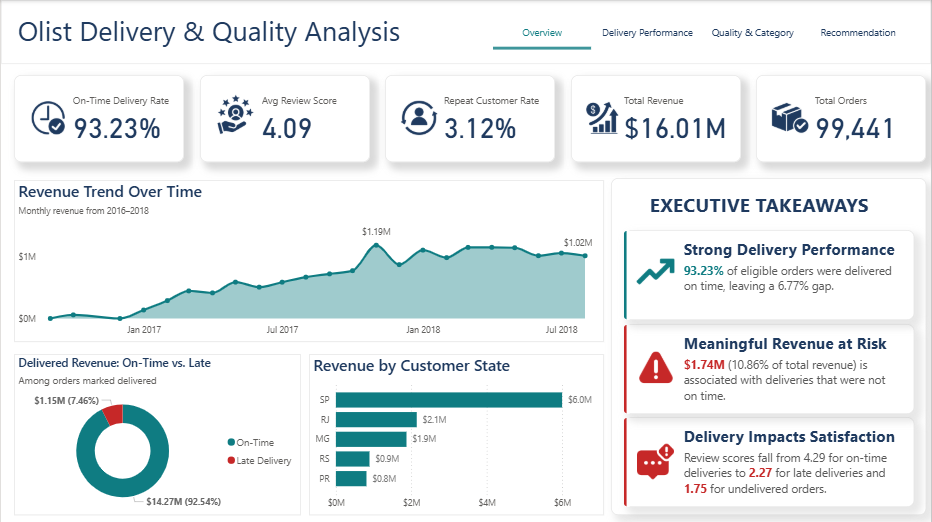

The page's visual inventory and layout, read from the dashboard file:
{"tool":"powerbi","page":{"name":"Overview","canvas":[1280,720],"ordinal":0},"visuals":[{"type":"shape","box":[0,0,1280,88.1],"z":0},{"type":"group","id":"g1","title":"Group 1","box":[856.1,316.6,400.5,123.9],"z":0,"group":"g6"},{"type":"group","id":"g2","title":"Group 1","box":[856.1,445.2,400.5,123.9],"z":0,"group":"g5"},{"type":"group","id":"g3","title":"Group 1","box":[856.1,573.9,400.5,123.9],"z":0,"group":"g4"},{"type":"lineChart","title":"Revenue Trend Over Time","fields":{"Y":["fact_orders.Total Revenue"],"Category":["fact_orders.order_purchase_timestamp (bins) months"]},"box":[17.9,247.7,812,223],"z":1000},{"type":"shape","box":[856.1,316.6,12.4,123.9],"z":1000,"group":"g6"},{"type":"shape","box":[856.1,445.2,12.4,123.9],"z":1000,"group":"g5"},{"type":"shape","box":[856.1,573.9,12.4,123.9],"z":1000,"group":"g4"},{"type":"clusteredBarChart","title":"Revenue by Customer State","fields":{"Category":["fact_orders.customer_state"],"Y":["fact_orders.Total Revenue"]},"box":[423.9,487.2,406,221.6],"z":2000},{"type":"textbox","box":[18.1,11.5,569.4,62.4],"z":3000},{"type":"pageNavigator","box":[677.7,19.7,571.1,49.2],"z":4000},{"type":"donutChart","title":"Delivered Revenue: On-Time vs. Late","fields":{"Y":["fact_order_items.On-Time Revenue","fact_orders.Late Delivery Revenue"]},"box":[17.9,487.2,395,221.6],"z":5000},{"type":"shape","box":[839.6,245,433.5,463.8],"z":6000},{"type":"textbox","box":[887.7,257.4,337.2,49.5],"z":7000},{"type":"cardVisual","fields":{"Data":["fact_orders.On-Time Delivery Rate"]},"box":[17.9,103.2,234,119.7],"z":8000},{"type":"group","id":"g4","title":"Group 2","box":[856.1,573.9,400.5,123.9],"z":8000,"group":"g7"},{"type":"cardVisual","fields":{"Data":["fact_orders.Repeat Customer Rate"]},"box":[528.5,103.2,234,119.7],"z":9000},{"type":"group","id":"g5","title":"Group 2","box":[856.1,445.2,400.5,123.9],"z":9000,"group":"g8"},{"type":"cardVisual","fields":{"Data":["fact_orders.Avg Review Score"]},"box":[273.2,103.2,234,119.7],"z":10000},{"type":"group","id":"g6","title":"Group 2","box":[856.1,316.6,400.5,123.9],"z":10000,"group":"g9"},{"type":"cardVisual","fields":{"Data":["fact_orders.Total Revenue"]},"box":[783.8,103.2,234,119.7],"z":11000},{"type":"cardVisual","fields":{"Data":["fact_order_items.Total Orders"]},"box":[1039.1,103.2,234,119.7],"z":12000},{"type":"shape","box":[856.1,316.6,400.5,123.9],"z":12001,"group":"g1"},{"type":"shape","box":[856.1,445.2,400.5,123.9],"z":12001,"group":"g2"},{"type":"shape","box":[856.1,573.9,400.5,123.9],"z":12001,"group":"g3"},{"type":"textbox","box":[934.4,356.6,300,78.5],"z":12501,"group":"g1"},{"type":"textbox","box":[934.4,485.2,300,78.5],"z":12501,"group":"g2"},{"type":"textbox","box":[934.4,613.9,300,78.5],"z":12501,"group":"g3"},{"type":"group","id":"g7","title":"Group 3","box":[856.1,573.9,400.5,123.9],"z":13000},{"type":"textbox","box":[934.4,323.6,319.3,38.5],"z":13002,"group":"g1"},{"type":"textbox","box":[934.4,452.2,319.3,38.5],"z":13002,"group":"g2"},{"type":"textbox","box":[934.4,580.9,319.3,38.5],"z":13002,"group":"g3"},{"type":"group","id":"g8","title":"Group 4","box":[856.1,445.2,400.5,123.9],"z":14000},{"type":"group","id":"g9","title":"Group 5","box":[856.1,316.6,400.5,123.9],"z":15000},{"type":"image","box":[868.5,477.5,66.1,56.4],"z":17000,"group":"g8"},{"type":"image","box":[869.9,342.8,61.9,61.9],"z":18000,"group":"g9"},{"type":"image","box":[864.4,598.7,72.9,72.9],"z":19000,"group":"g7"}]}

Visuals, with their boxes in screenshot pixels (x1, y1, x2, y2), scaled from the page's 1280x720 canvas onto the 932x522 screenshot:
shape: <box>0,0,931,64</box>
"Group 1" group: <box>623,230,915,319</box>
"Group 1" group: <box>623,323,915,413</box>
"Group 1" group: <box>623,416,915,506</box>
"Revenue Trend Over Time" lineChart: <box>13,180,604,341</box>
shape: <box>623,230,632,319</box>
shape: <box>623,323,632,413</box>
shape: <box>623,416,632,506</box>
"Revenue by Customer State" clusteredBarChart: <box>309,353,604,514</box>
textbox: <box>13,8,428,54</box>
pageNavigator: <box>493,14,909,50</box>
"Delivered Revenue: On-Time vs. Late" donutChart: <box>13,353,301,514</box>
shape: <box>611,178,927,514</box>
textbox: <box>646,187,892,223</box>
cardVisual - fact_orders.On-Time Delivery Rate: <box>13,75,183,162</box>
"Group 2" group: <box>623,416,915,506</box>
cardVisual - fact_orders.Repeat Customer Rate: <box>385,75,555,162</box>
"Group 2" group: <box>623,323,915,413</box>
cardVisual - fact_orders.Avg Review Score: <box>199,75,369,162</box>
"Group 2" group: <box>623,230,915,319</box>
cardVisual - fact_orders.Total Revenue: <box>571,75,741,162</box>
cardVisual - fact_order_items.Total Orders: <box>757,75,927,162</box>
shape: <box>623,230,915,319</box>
shape: <box>623,323,915,413</box>
shape: <box>623,416,915,506</box>
textbox: <box>680,259,899,315</box>
textbox: <box>680,352,899,409</box>
textbox: <box>680,445,899,502</box>
"Group 3" group: <box>623,416,915,506</box>
textbox: <box>680,235,913,263</box>
textbox: <box>680,328,913,356</box>
textbox: <box>680,421,913,449</box>
"Group 4" group: <box>623,323,915,413</box>
"Group 5" group: <box>623,230,915,319</box>
image: <box>632,346,681,387</box>
image: <box>633,249,678,293</box>
image: <box>629,434,682,487</box>
